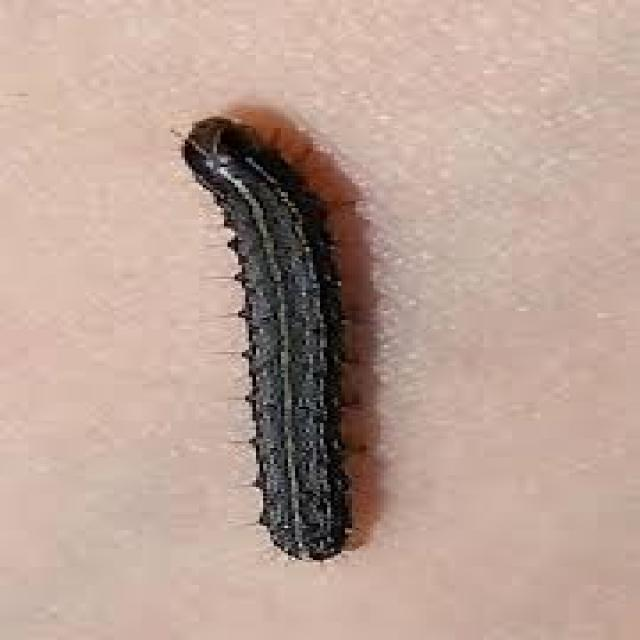Army Worm: (158, 109, 391, 567)
